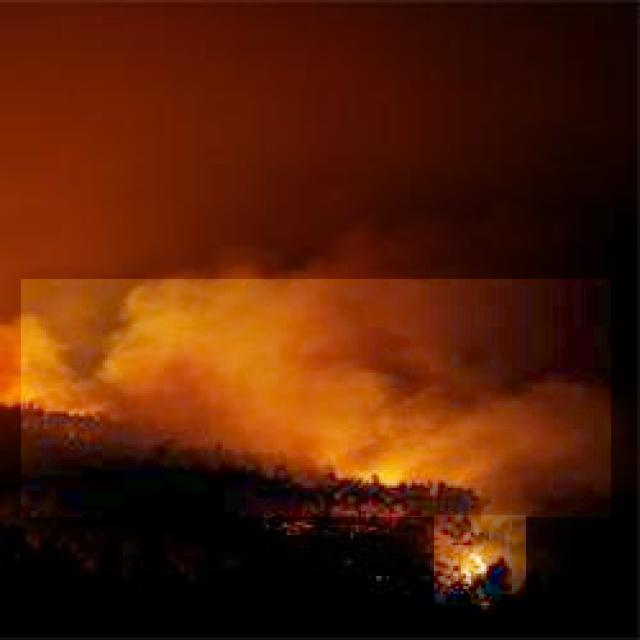Fire: (434, 515, 526, 605)
Smoke: (21, 280, 611, 518)
